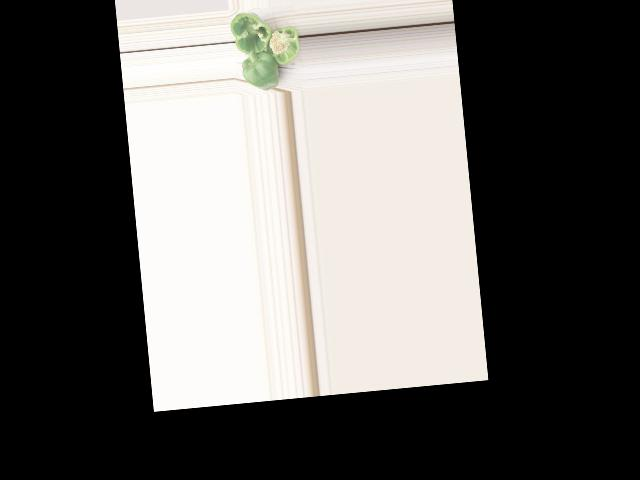bell_pepper: (264, 17, 301, 68)
